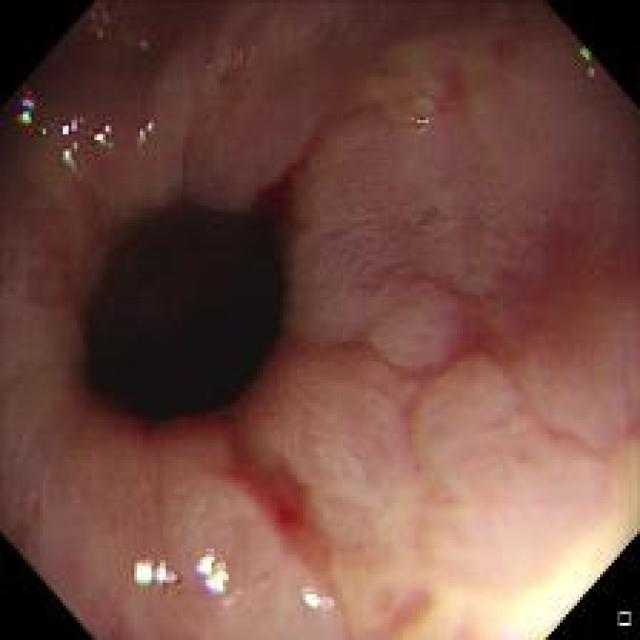blood: (216, 410, 310, 541)
blur: (305, 434, 635, 638)
bubbles: (401, 98, 434, 140)
color misalignment: (54, 109, 115, 174), (130, 552, 174, 589), (576, 42, 604, 98), (131, 115, 172, 149), (301, 585, 338, 615), (84, 5, 114, 41), (14, 82, 36, 130), (198, 549, 221, 594), (134, 36, 152, 56), (409, 116, 432, 128)
contrast: (65, 176, 308, 431)
saturation: (480, 521, 625, 632)
specularity: (205, 574, 228, 590), (136, 562, 155, 581), (199, 551, 214, 572), (305, 594, 320, 608), (159, 564, 168, 581)
